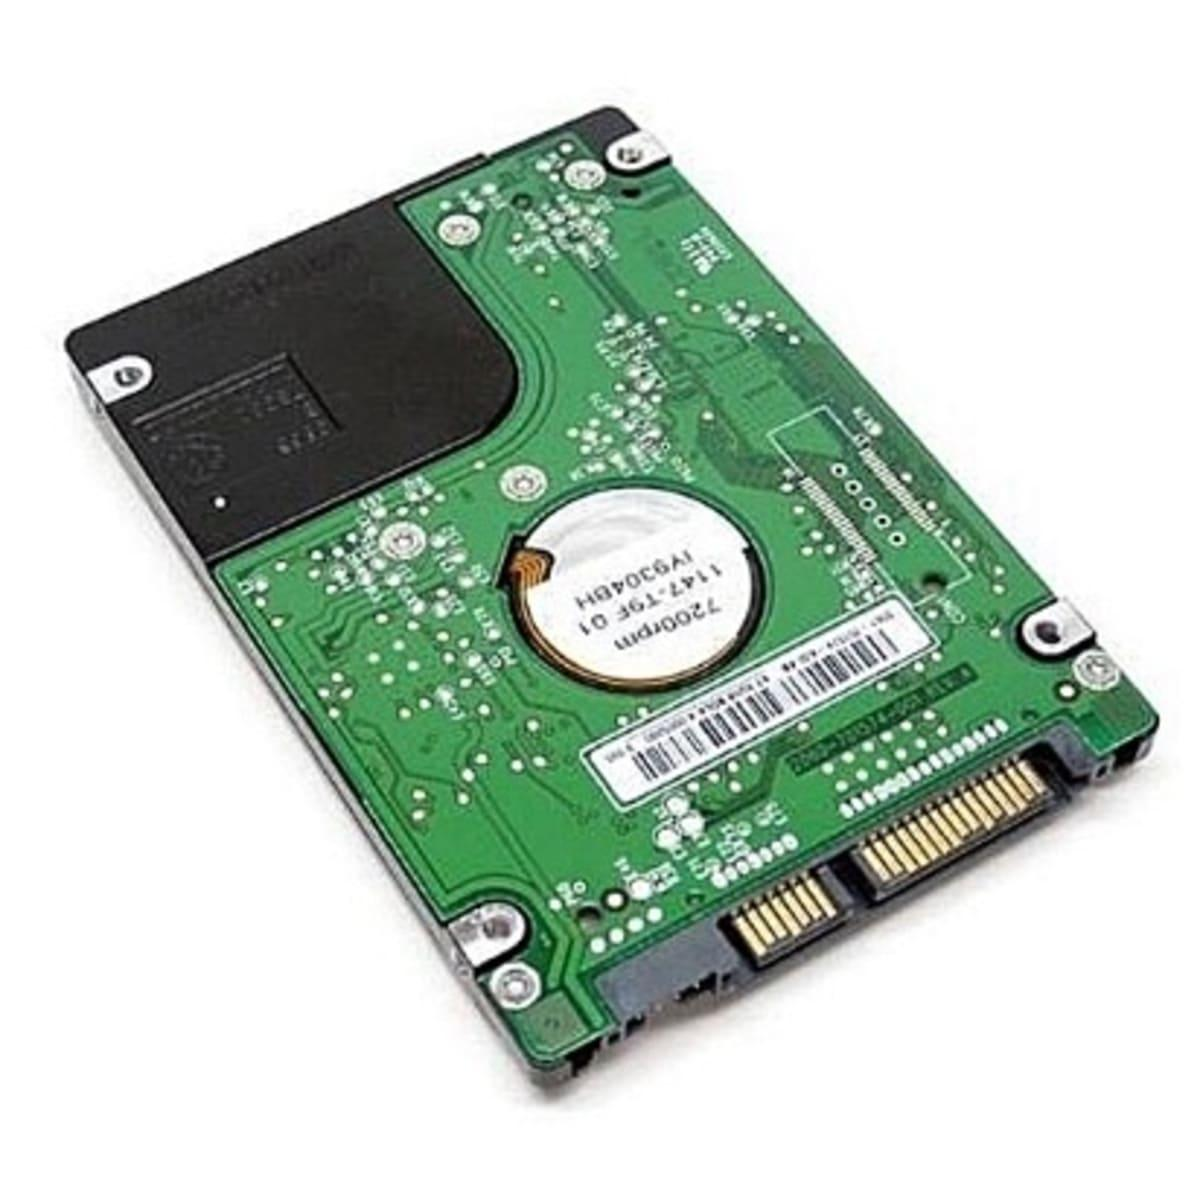internal HDD: (62, 109, 1162, 1095)
